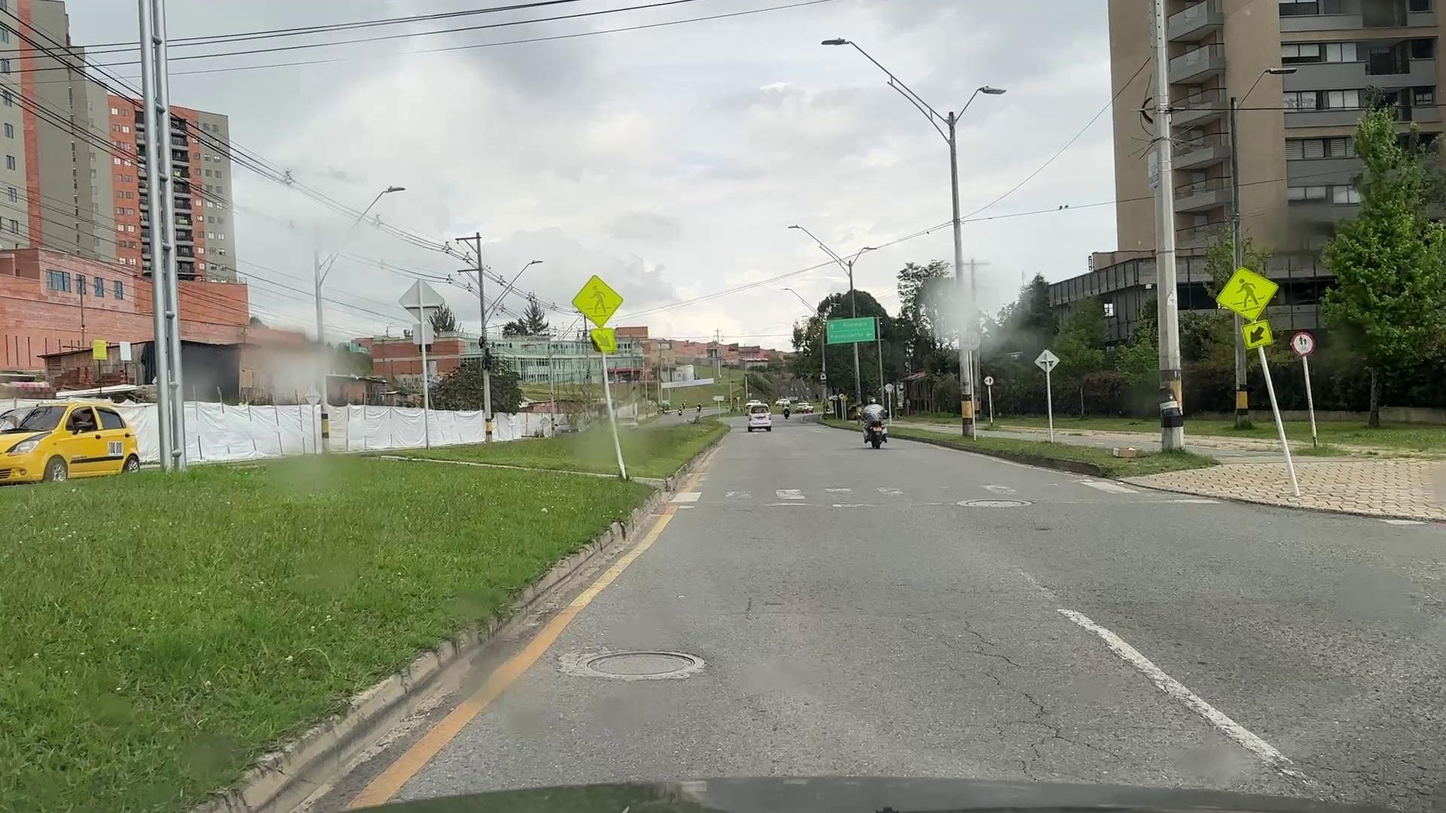bache: (1035, 528, 1051, 531)
registro: (587, 652, 694, 675), (966, 499, 1023, 507)
